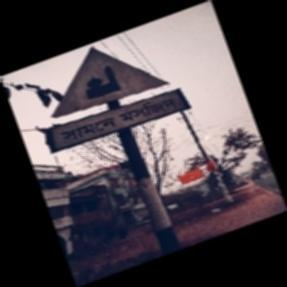Mosque in front: (33, 47, 185, 154)
